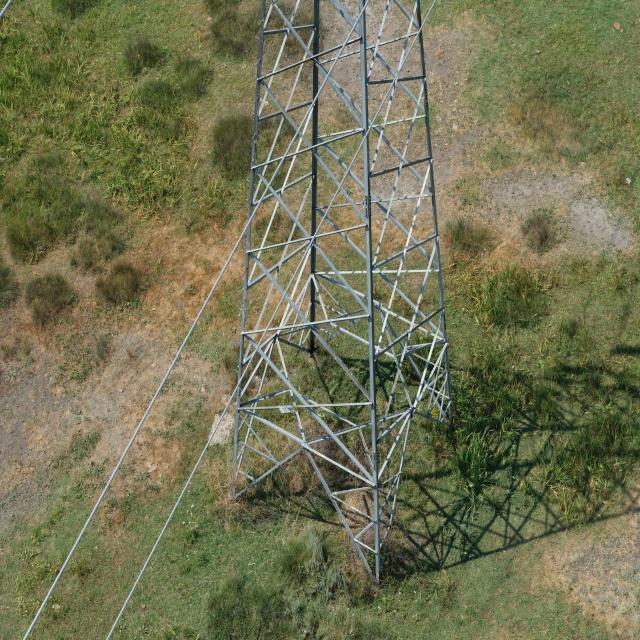direk: (206, 9, 470, 590)
